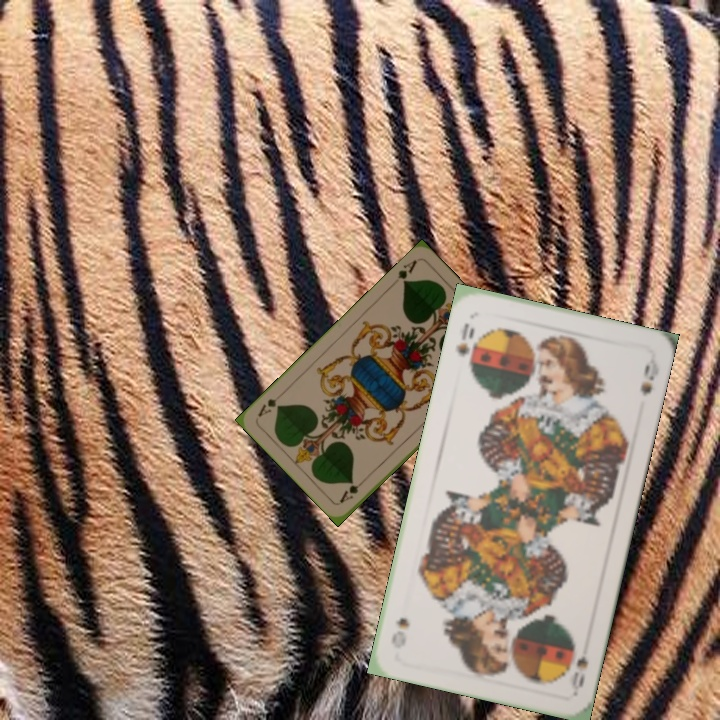GA: (335, 474, 369, 506), (393, 256, 420, 287)
SO: (452, 319, 478, 370), (567, 652, 591, 695)
